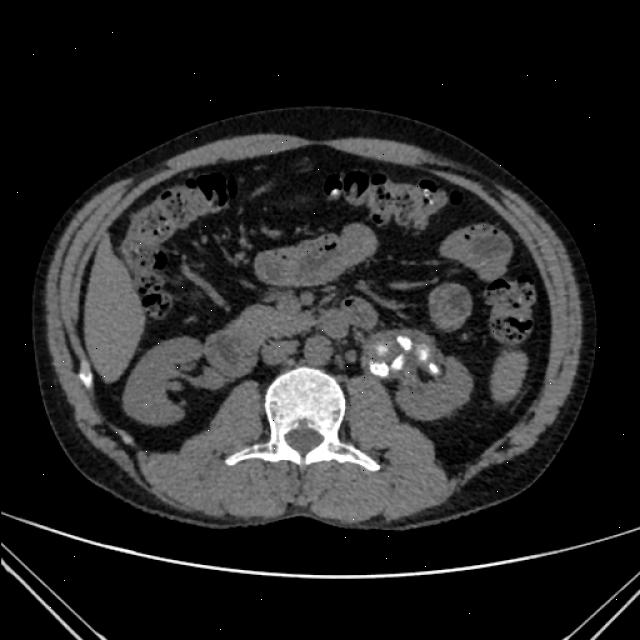kidneystone: (370, 362, 389, 377), (398, 336, 411, 351), (391, 356, 404, 369)
